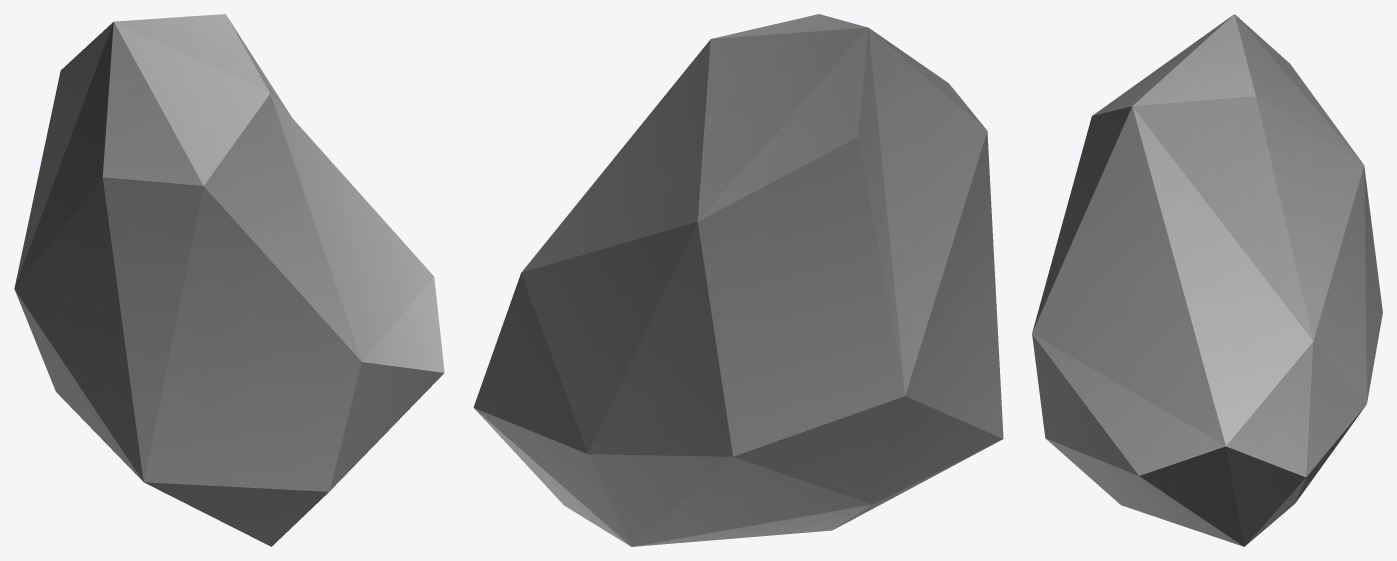
File: Rock_2.fbx
The picture shows the model from 3 angles, left to right: view 1: azimuth 30°, elevation 25°; view 2: azimuth 150°, elevation 25°; view 3: azimuth 270°, elevation 25°; orthographic projection. The views are drawn at different scales.
Parts seen in each view (by area): view 1: Rock 2; view 2: Rock 2; view 3: Rock 2.
Boxes of the visible parts, bbox=[...] form: Rock 2: bbox=[14, 14, 444, 546]; Rock 2: bbox=[473, 14, 1003, 546]; Rock 2: bbox=[1032, 14, 1382, 546].
Size of the model in its own units: 5.54 by 6.98 by 4.93.
